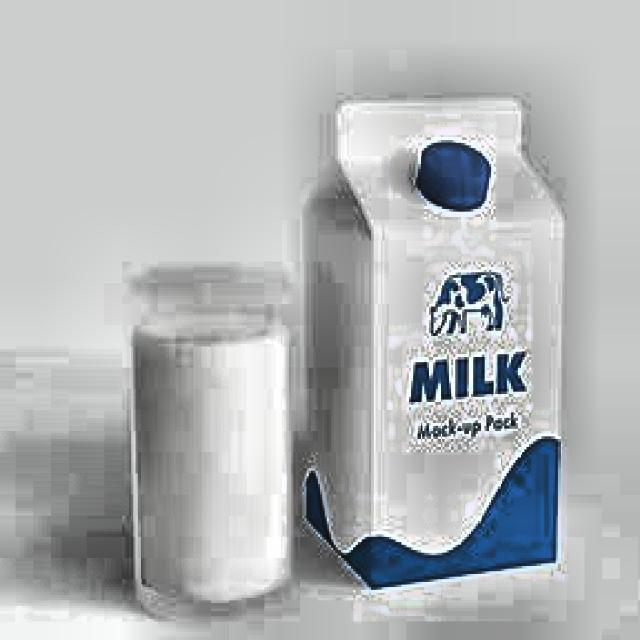cardboard: (302, 95, 564, 590)
